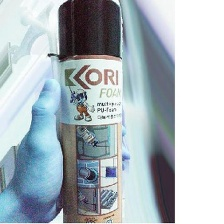aerosol_cans: (53, 0, 131, 223)
